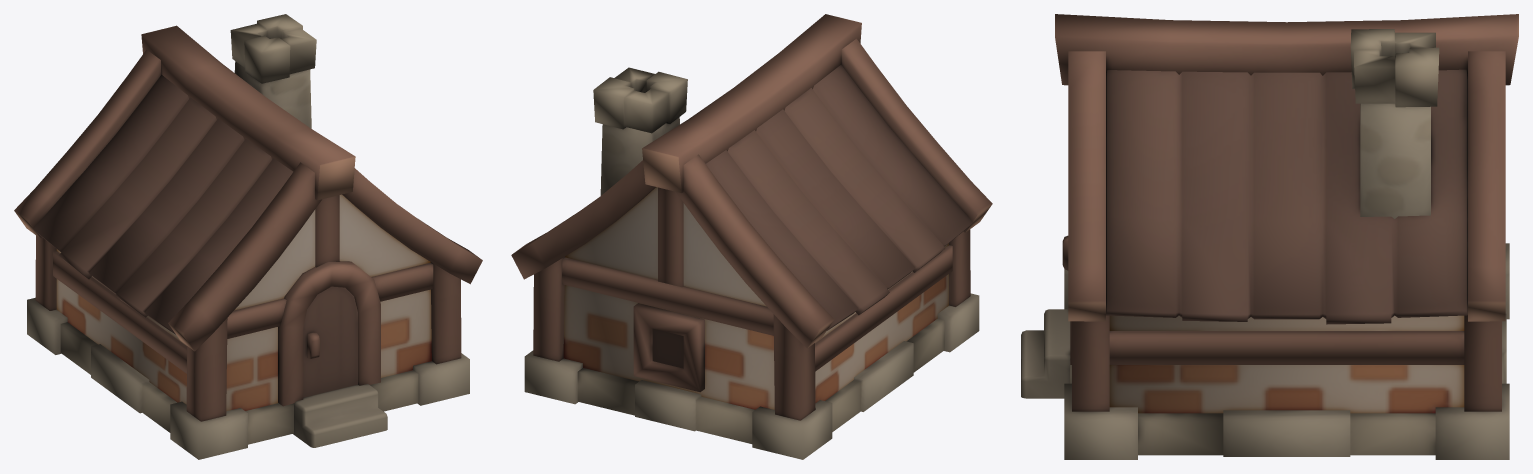
File: house5_lod.fbx
3 views of the same model, side by side, from view 1: azimuth 30°, elevation 25°; view 2: azimuth 150°, elevation 25°; view 3: azimuth 270°, elevation 25° (orthographic). The views are drawn at different scales.
Visible parts, largest first — view 1: house5_LOD0; view 2: house5_LOD0; view 3: house5_LOD0.
Boxes of the visible parts, box(x1,y1,x2,y2) form: house5_LOD0: box(14, 14, 482, 459); house5_LOD0: box(511, 14, 992, 459); house5_LOD0: box(1021, 14, 1518, 459).
Size of what is drawn, in the model's own units: 194 by 175 by 214.
1 material, 1 textured.
